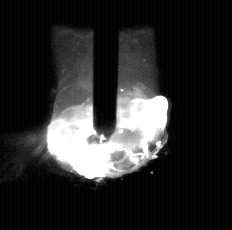arame: (94, 0, 117, 138)
poca: (46, 0, 166, 230)
